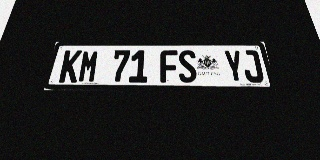1: (129, 50, 148, 83)
7: (110, 50, 130, 83)
F: (160, 50, 179, 83)
J: (240, 50, 265, 83)
K: (58, 50, 82, 83)
M: (77, 50, 100, 83)
S: (178, 50, 197, 83)
Y: (223, 50, 246, 83)
